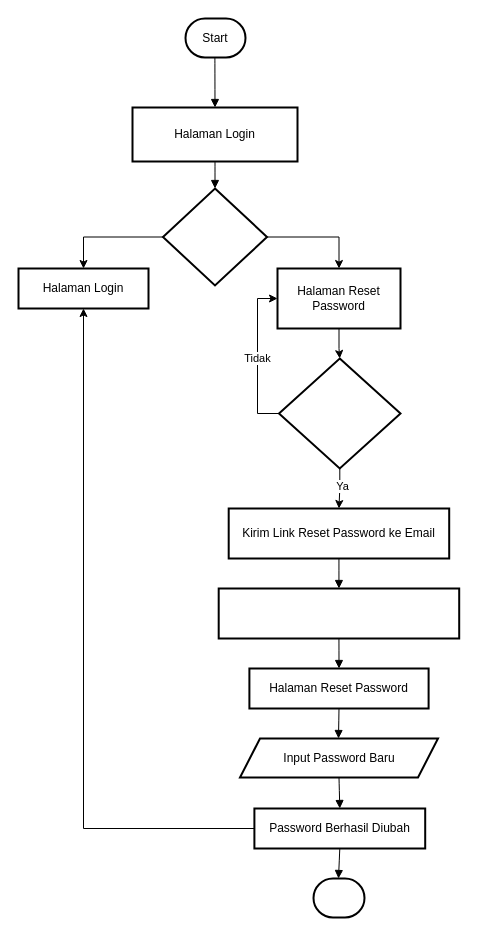
Some shapes in this 477 by 935 pixel diagram are drawn without their labels. Here are the shapes that lost their labels. From the top down, the centre of each, then its label:
point 215,236: Klik Reset Password?
point 339,413: Email Terdaftar?
point 338,613: User Membuka Email & Klik Link Reset
point 338,897: End
